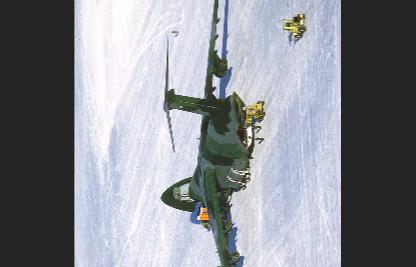C17: (160, 0, 253, 265)
